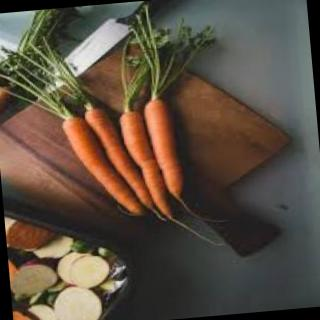Wortel: (63, 111, 145, 223), (120, 107, 176, 227), (144, 94, 188, 201)
